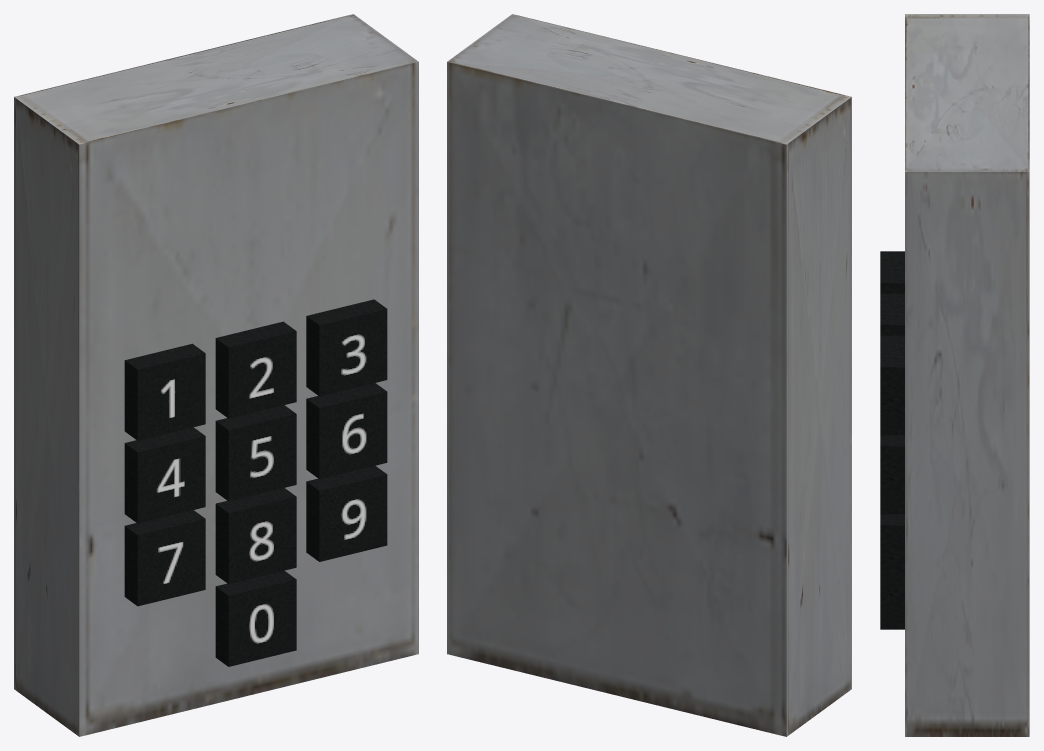
File: door_pin.fbx
3 views of the same model, side by side, from view 1: azimuth 30°, elevation 25°; view 2: azimuth 150°, elevation 25°; view 3: azimuth 270°, elevation 25° (orthographic). The views are drawn at different scales.
Parts seen in each view (by area): view 1: Box, Buttons; view 2: Box; view 3: Box, Buttons.
Part boxes in pixels (bbox=[...]): Box: bbox=[14, 14, 418, 736]; Buttons: bbox=[124, 299, 387, 666]; Box: bbox=[447, 14, 851, 736]; Box: bbox=[905, 14, 1029, 736]; Buttons: bbox=[880, 251, 904, 629].
Bounding box in the file's own units: 30 × 50 × 12.
Materials: 2 (2 with a texture image).
